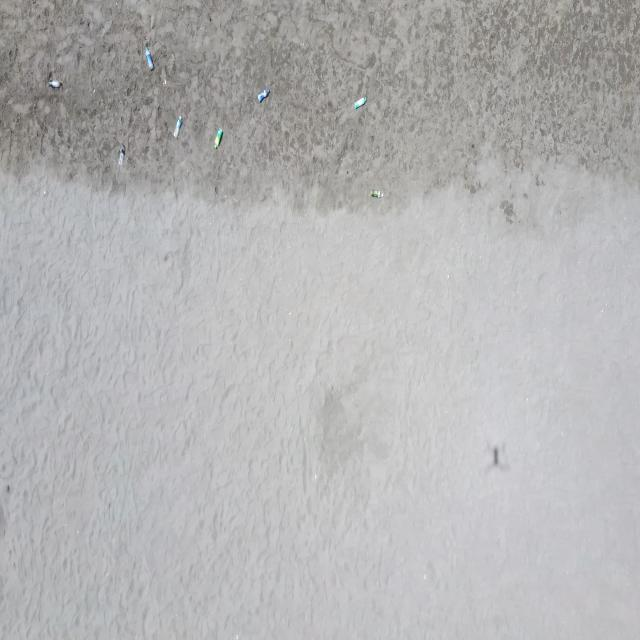Garbage: (144, 45, 154, 68), (173, 116, 181, 136), (213, 128, 221, 148), (256, 88, 268, 101), (353, 96, 366, 108), (48, 79, 62, 88), (119, 143, 123, 166), (369, 190, 383, 196)
